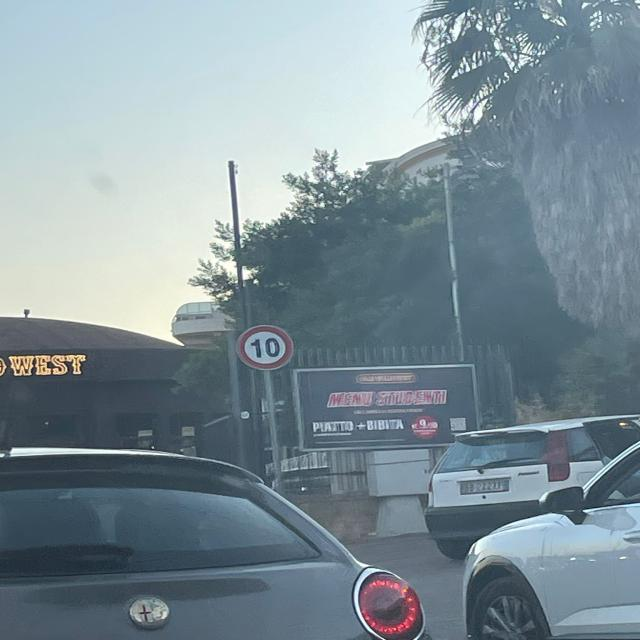forb_speed_over_10: (236, 324, 294, 371)
